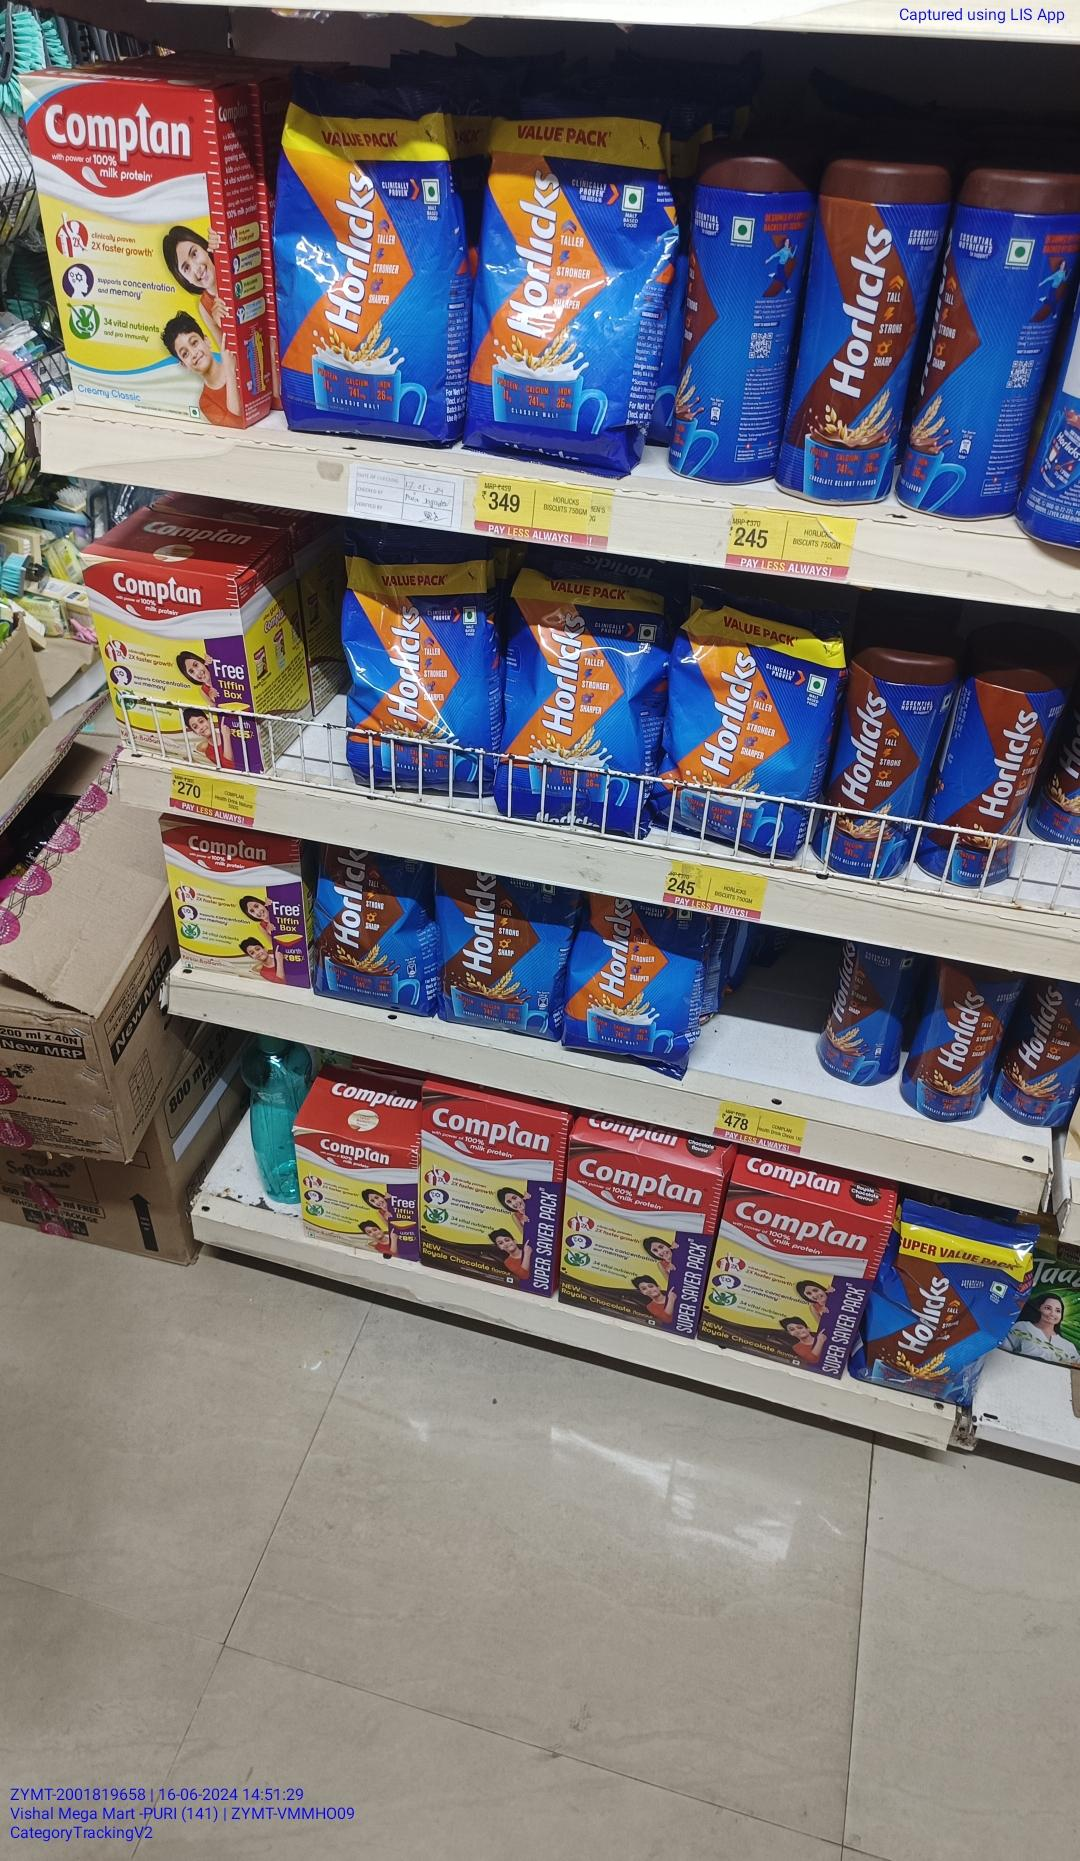HORLICK_CHOCOLATE_1_KG_JAR: (798, 154, 913, 508), (914, 170, 1021, 523)
HORLICK_CHOCOLATE_500_G_JAR: (836, 649, 941, 882), (951, 654, 1050, 891), (913, 959, 1004, 1130), (820, 941, 909, 1090), (1008, 974, 1080, 1134)
